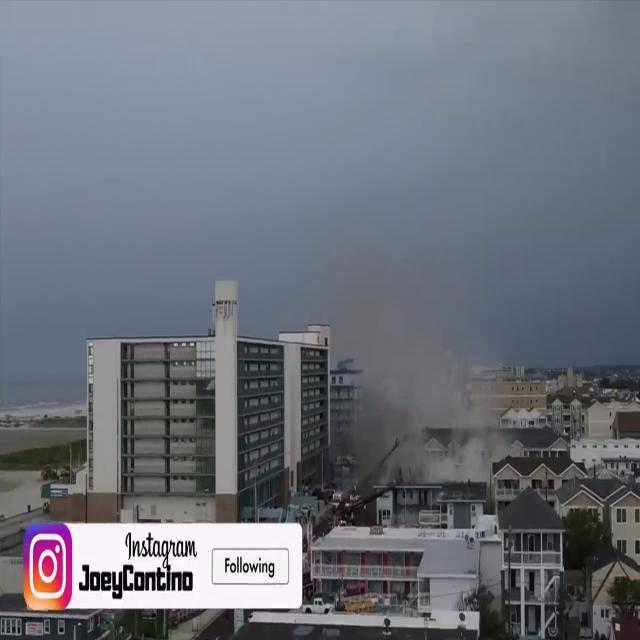Smoke: (341, 274, 504, 498)
